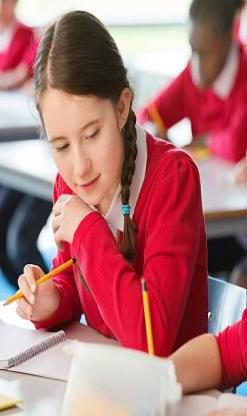cheating: (29, 5, 213, 373)
